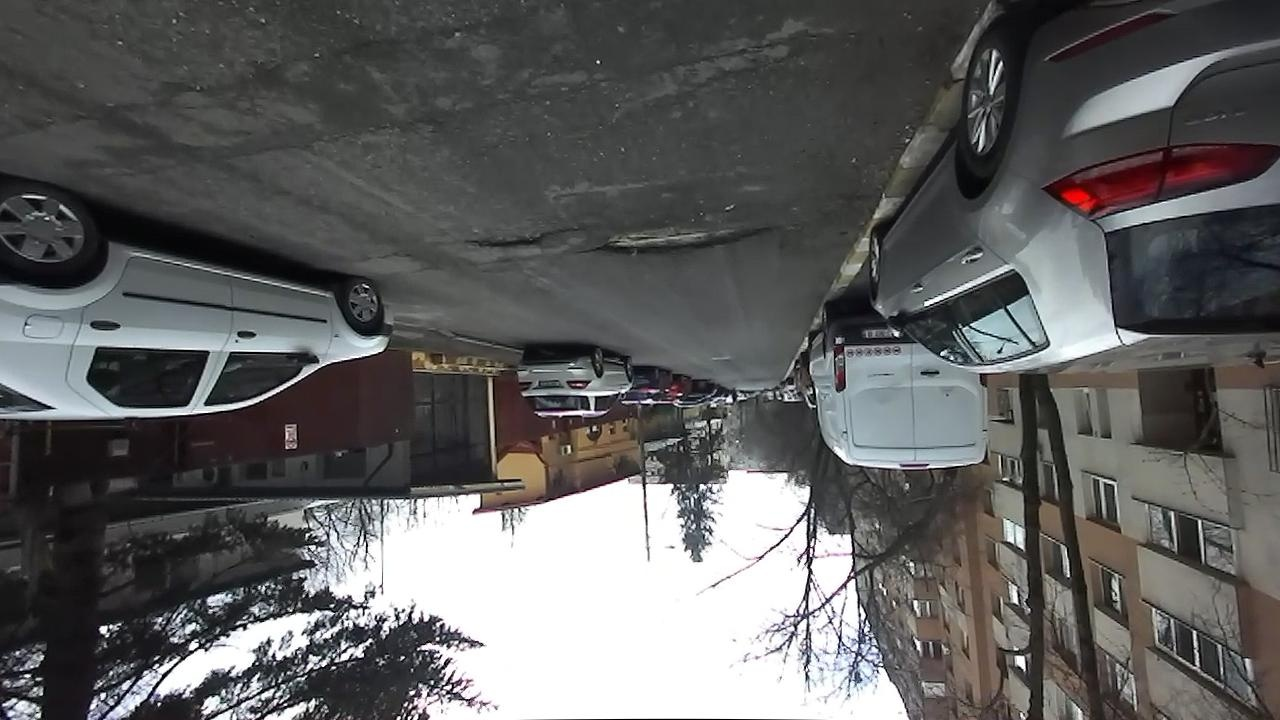pothole: (586, 220, 778, 260), (461, 225, 572, 253)
